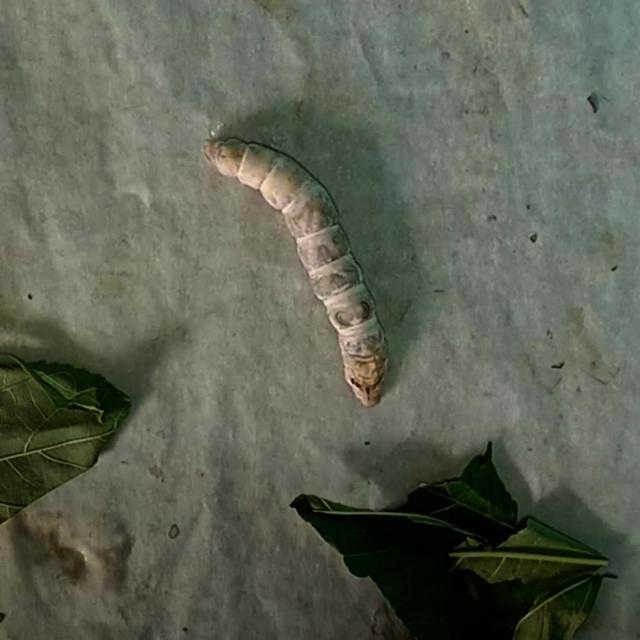Grasserie: (181, 104, 414, 431)
